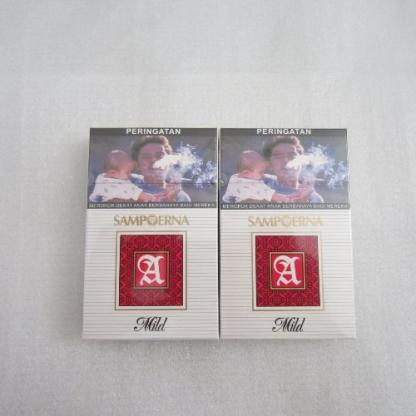bungkus rokok: (76, 118, 222, 342), (218, 123, 359, 348)
